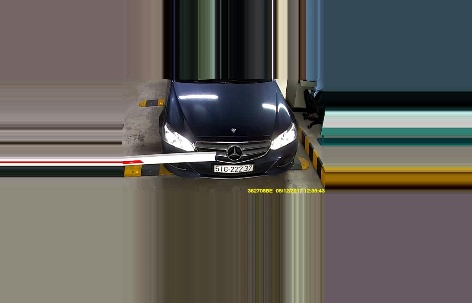plate: (214, 160, 254, 174)
